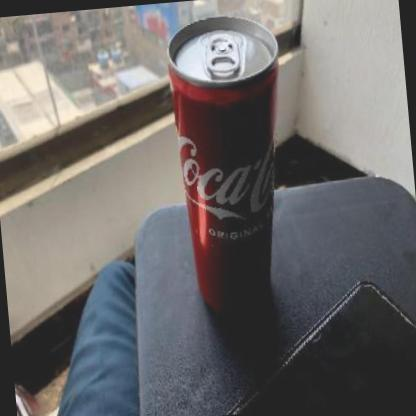alumunium_can: (164, 11, 301, 326)
